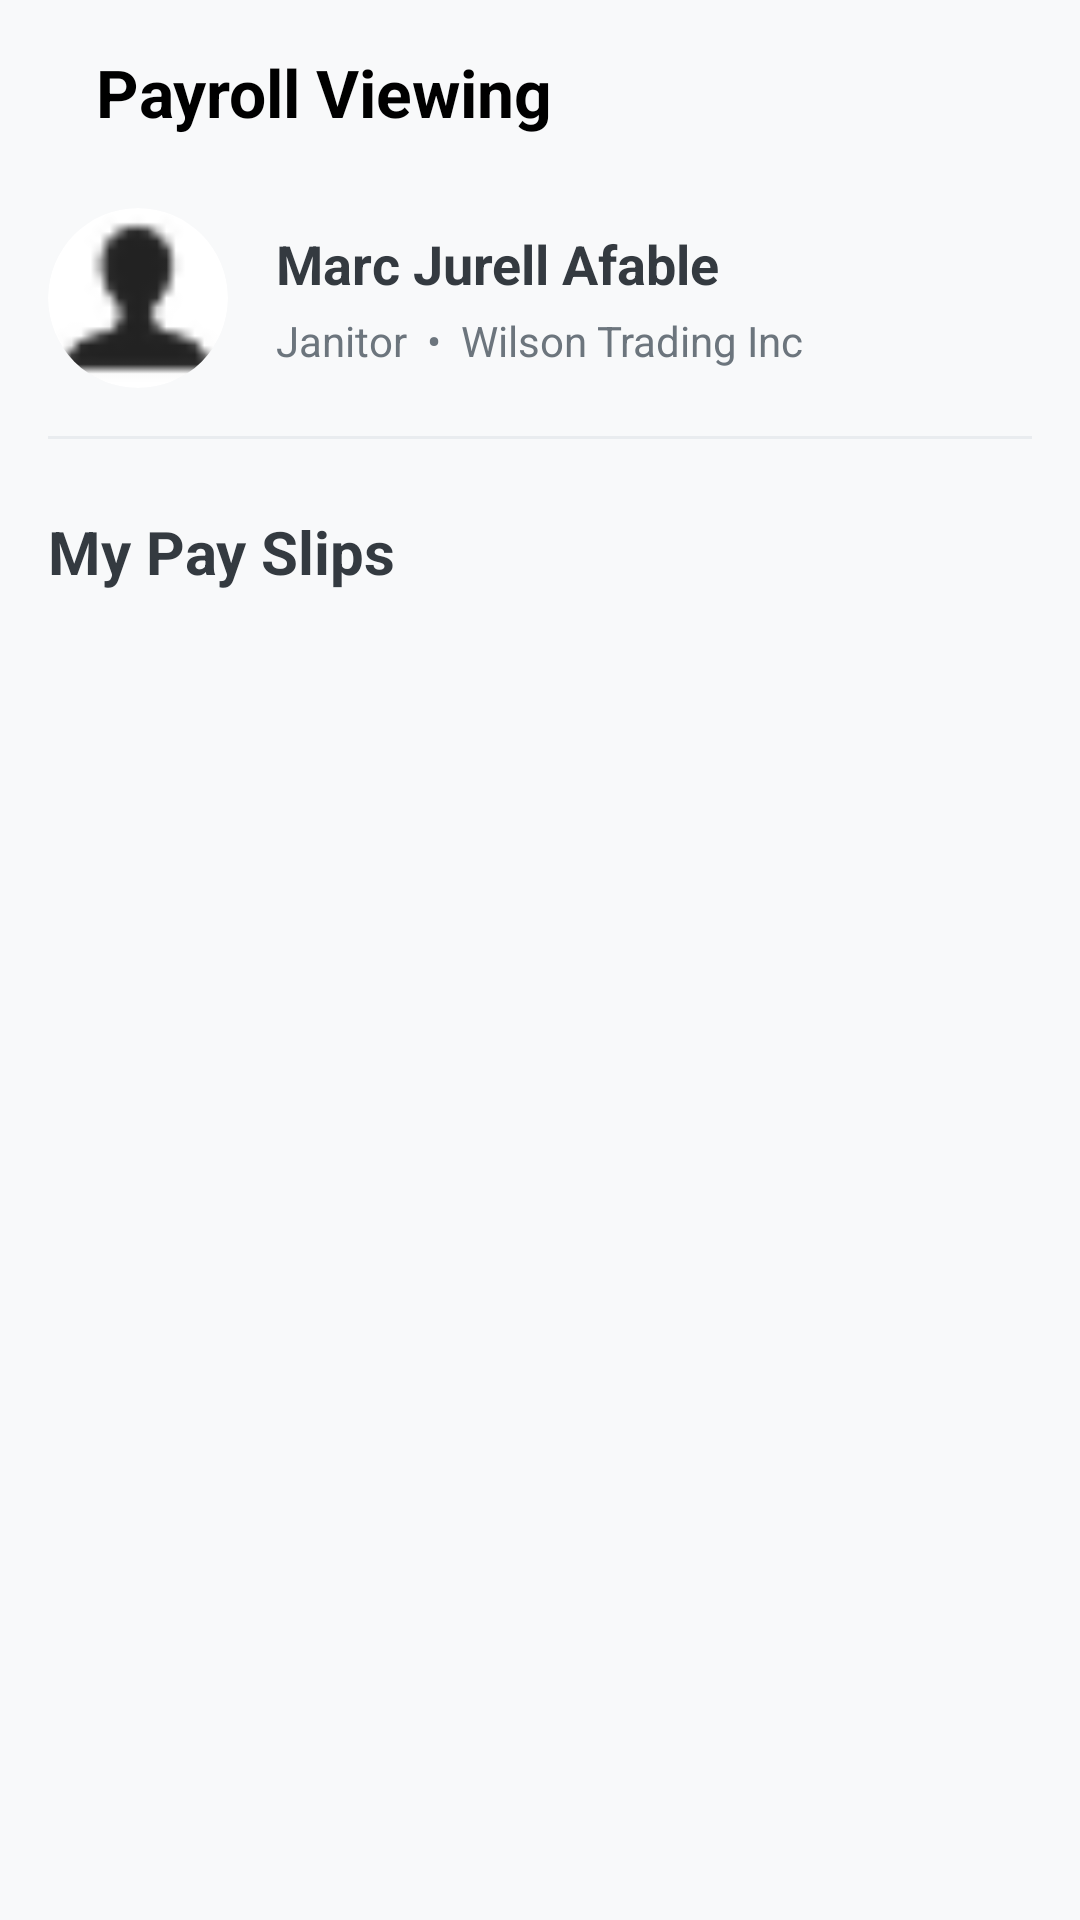

Screen size 1080px×1920px. Icon name, then its box in pixels as (x1, y1, x2, y2):
Profile Picture: (65, 223, 210, 373)
